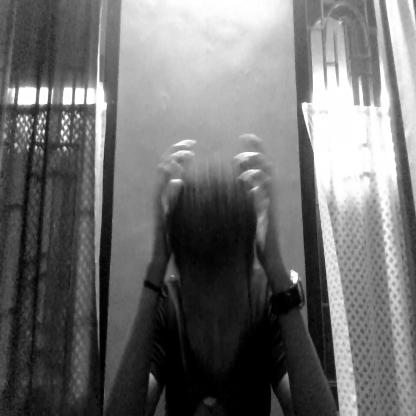Distracted: (166, 144, 266, 361)
